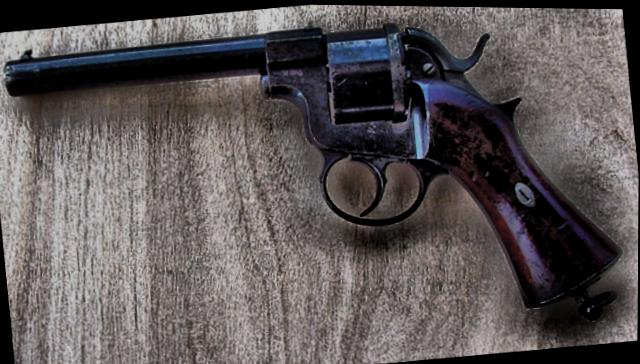pistol: (0, 0, 624, 354)
